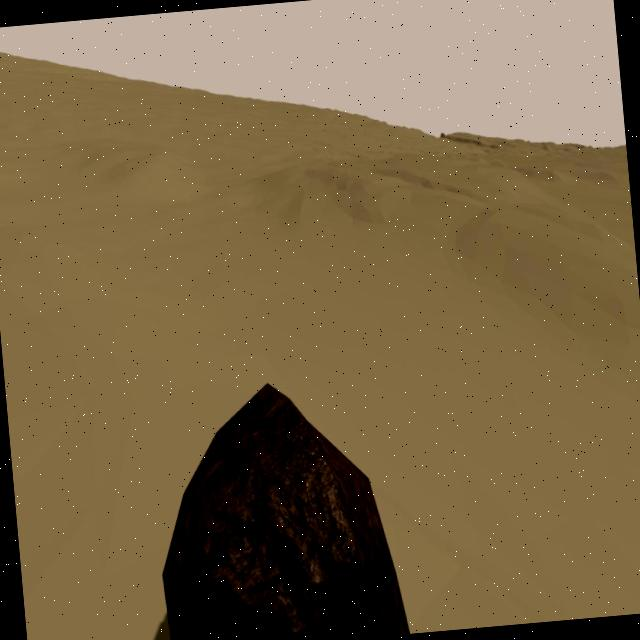rock: (146, 371, 410, 640)
